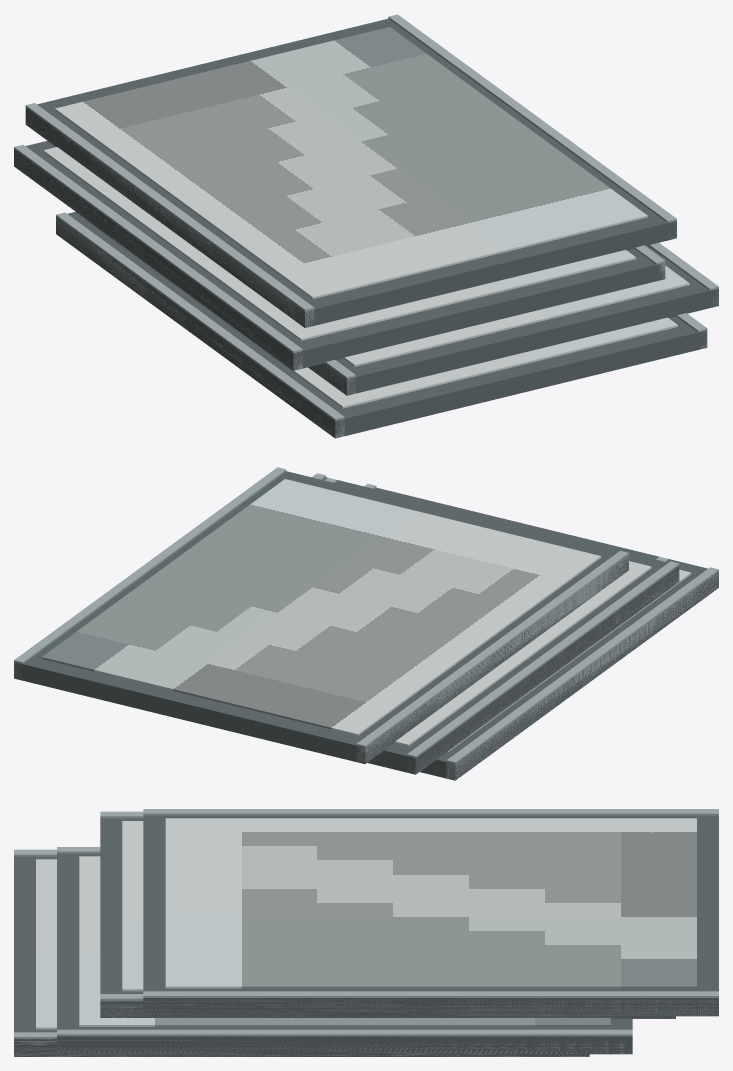
Rendered from CMU3DMaterialLeisurePlasteel50Cloud.glb.
3 views of the same model, one above another, from view 1: azimuth 30°, elevation 25°; view 2: azimuth 150°, elevation 25°; view 3: azimuth 270°, elevation 25° (orthographic). The views are drawn at different scales.
Visible parts, largest first — view 1: original broad reflective sheet surface 3, separate physical sheet 3, separate physical sheet 0, separate physical sheet 2, separate physical sheet 1, original broad reflective sheet surface 2, sheet edge 3, sheet edge 0, original broad reflective sheet surface 0, sheet edge 2, original broad reflective sheet surface 1, sheet edge 3 member 2 (+2 smaller); view 2: original broad reflective sheet surface 3, separate physical sheet 3, separate physical sheet 2, separate physical sheet 0, sheet edge 3, sheet edge 0, original broad reflective sheet surface 2, sheet edge 2, sheet edge 3 member 2, separate physical sheet 1, original broad reflective sheet surface 0; view 3: original broad reflective sheet surface 3, separate physical sheet 3, separate physical sheet 1, original broad reflective sheet surface 1, sheet edge 3 member 2, sheet edge 1 member 2, separate physical sheet 0, separate physical sheet 2, sheet edge 3, original broad reflective sheet surface 2, original broad reflective sheet surface 0, sheet edge 0 member 2 (+1 smaller).
Boxes of the visible parts, bbox=[...] form: original broad reflective sheet surface 3: bbox=[55, 27, 647, 298]; separate physical sheet 3: bbox=[25, 18, 676, 327]; separate physical sheet 0: bbox=[56, 211, 707, 438]; separate physical sheet 2: bbox=[14, 141, 665, 370]; separate physical sheet 1: bbox=[308, 245, 718, 395]; original broad reflective sheet surface 2: bbox=[43, 147, 635, 340]; sheet edge 3: bbox=[25, 103, 314, 327]; sheet edge 0: bbox=[56, 212, 344, 437]; original broad reflective sheet surface 0: bbox=[85, 219, 677, 408]; sheet edge 2: bbox=[14, 145, 302, 370]; original broad reflective sheet surface 1: bbox=[344, 265, 689, 366]; sheet edge 3 member 2: bbox=[388, 14, 676, 238]; original broad reflective sheet surface 3: bbox=[41, 479, 601, 735]; separate physical sheet 3: bbox=[14, 471, 628, 763]; separate physical sheet 2: bbox=[335, 481, 679, 774]; separate physical sheet 0: bbox=[375, 487, 718, 780]; sheet edge 3: bbox=[356, 551, 628, 763]; sheet edge 0: bbox=[446, 567, 718, 780]; original broad reflective sheet surface 2: bbox=[395, 561, 651, 746]; sheet edge 2: bbox=[407, 561, 679, 773]; sheet edge 3 member 2: bbox=[14, 467, 286, 679]; separate physical sheet 1: bbox=[322, 477, 668, 562]; original broad reflective sheet surface 0: bbox=[447, 569, 691, 752]; original broad reflective sheet surface 3: bbox=[165, 818, 696, 988]; separate physical sheet 3: bbox=[143, 815, 718, 1016]; separate physical sheet 1: bbox=[57, 853, 632, 1054]; original broad reflective sheet surface 1: bbox=[79, 856, 610, 1026]; sheet edge 3 member 2: bbox=[143, 991, 718, 1016]; sheet edge 1 member 2: bbox=[57, 1029, 632, 1054]; separate physical sheet 0: bbox=[14, 856, 589, 1056]; separate physical sheet 2: bbox=[100, 818, 675, 1018]; sheet edge 3: bbox=[143, 809, 718, 815]; original broad reflective sheet surface 2: bbox=[122, 821, 143, 991]; original broad reflective sheet surface 0: bbox=[36, 859, 56, 1029]; sheet edge 0 member 2: bbox=[14, 1032, 589, 1056].
Size of the model in its own units: 0.435 by 0.077 by 0.637.
3 materials, 1 textured.
